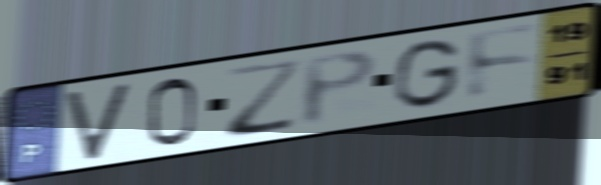0: (146, 75, 198, 149)
F: (464, 21, 544, 106)
G: (390, 36, 464, 112)
P: (300, 46, 381, 129)
V: (62, 79, 134, 163)
Z: (224, 55, 306, 141)
